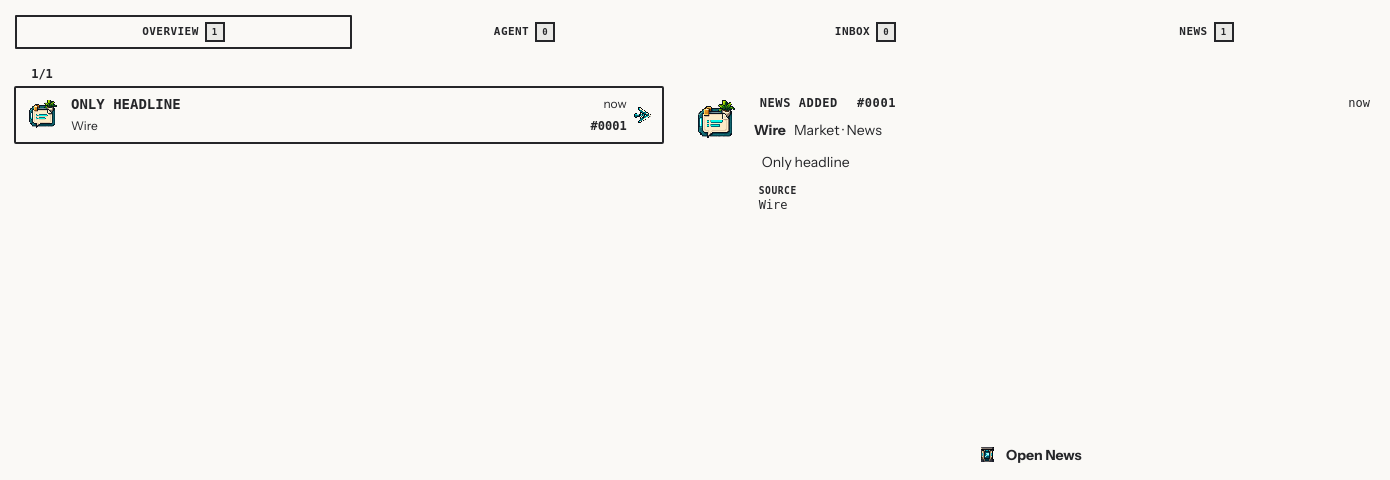
OfficeRuntimeSection › keeps channel navigation available when the selected channel is empty
Click the tab "Inbox 0" at (866, 32), box [697,15,1034,49]
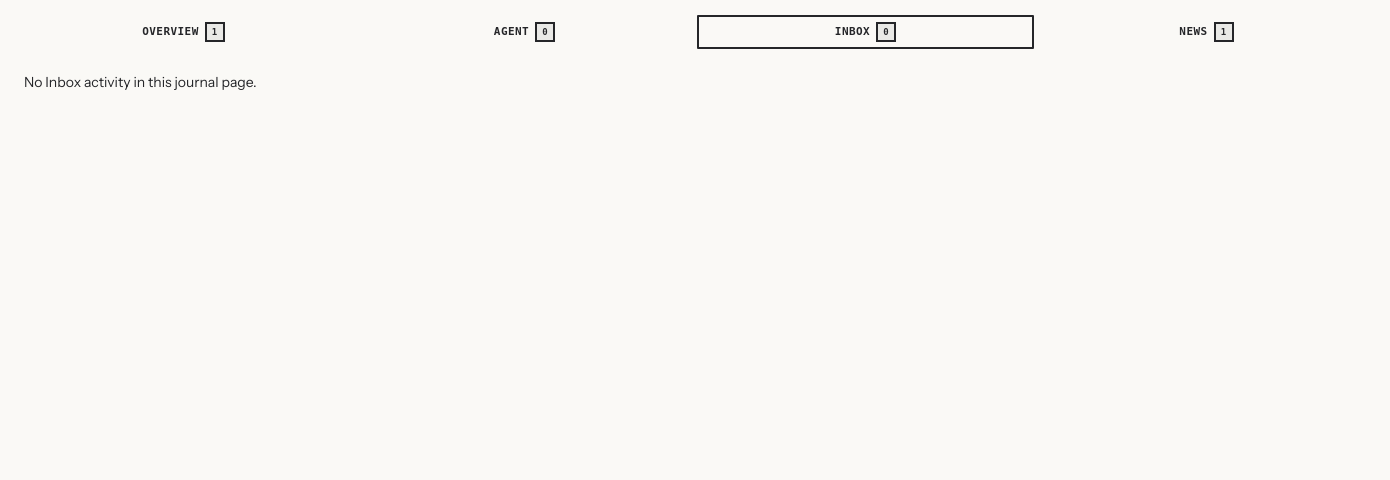
Check: the text "No Inbox activity in this journal page." is shown, box [24,73,257,91]
Click the tab "News 1" at (1206, 32), box [1038,15,1375,49]
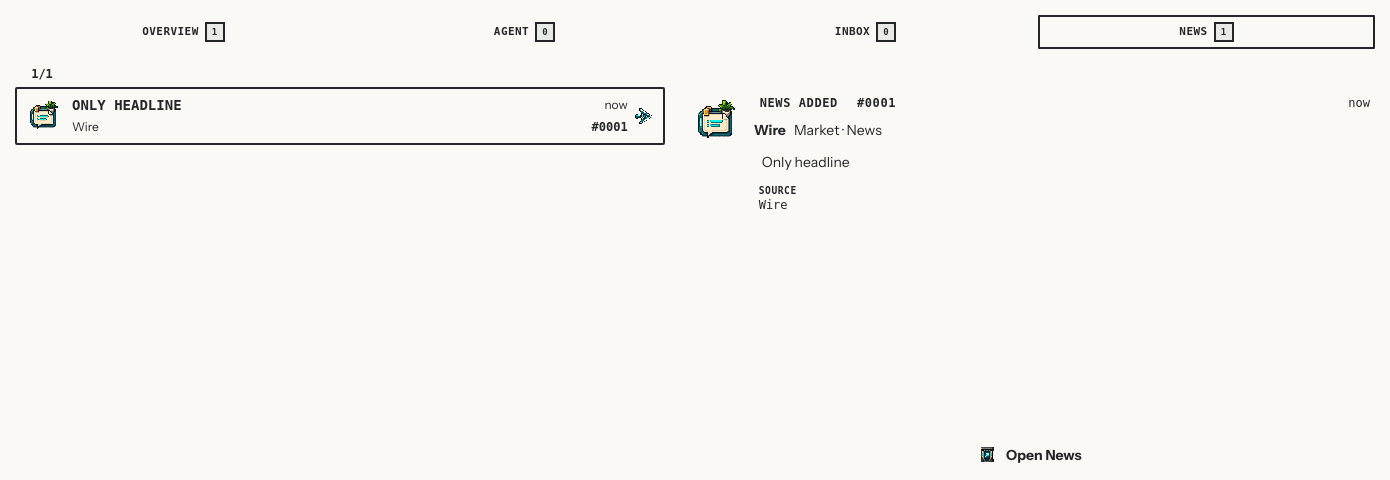
Check: the text "Only headline" is shown 2 times, box [72,95,182,115]; [762,153,850,171]
